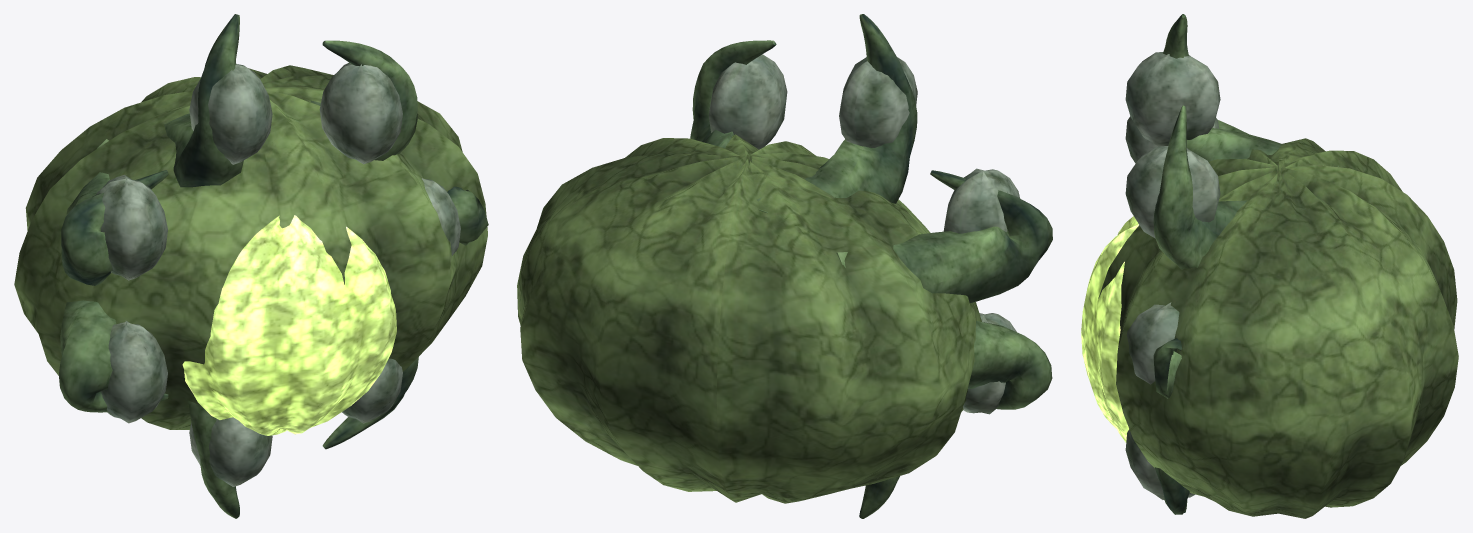
The model's file is last-spore-nest.glb.
3 views of the same model, side by side, from view 1: azimuth 30°, elevation 25°; view 2: azimuth 150°, elevation 25°; view 3: azimuth 270°, elevation 25° (orthographic).
Parts seen in each view (by area): view 1: last-spore-nest_membrane, last-spore-nest_signal, last-spore-nest_rib, last-spore-nest_carapace; view 2: last-spore-nest_membrane, last-spore-nest_carapace, last-spore-nest_rib; view 3: last-spore-nest_membrane, last-spore-nest_rib, last-spore-nest_carapace, last-spore-nest_signal.
Boxes of the visible parts, bbox=[...] form: last-spore-nest_membrane: bbox=[14, 65, 487, 429]; last-spore-nest_signal: bbox=[182, 215, 396, 435]; last-spore-nest_rib: bbox=[96, 62, 460, 486]; last-spore-nest_carapace: bbox=[58, 14, 488, 518]; last-spore-nest_membrane: bbox=[517, 134, 981, 503]; last-spore-nest_carapace: bbox=[690, 14, 1052, 518]; last-spore-nest_rib: bbox=[708, 54, 1019, 414]; last-spore-nest_membrane: bbox=[1098, 138, 1458, 518]; last-spore-nest_rib: bbox=[1125, 52, 1220, 499]; last-spore-nest_carapace: bbox=[1153, 14, 1338, 514]; last-spore-nest_signal: bbox=[1081, 216, 1138, 442].
Bounding box in the file's own units: 1.44 × 1.51 × 1.03.
4 materials, 4 textured.
